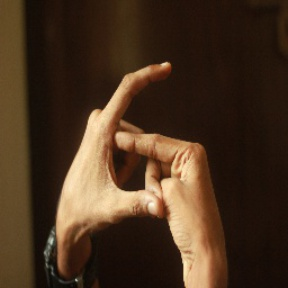E: (75, 59, 213, 215)
